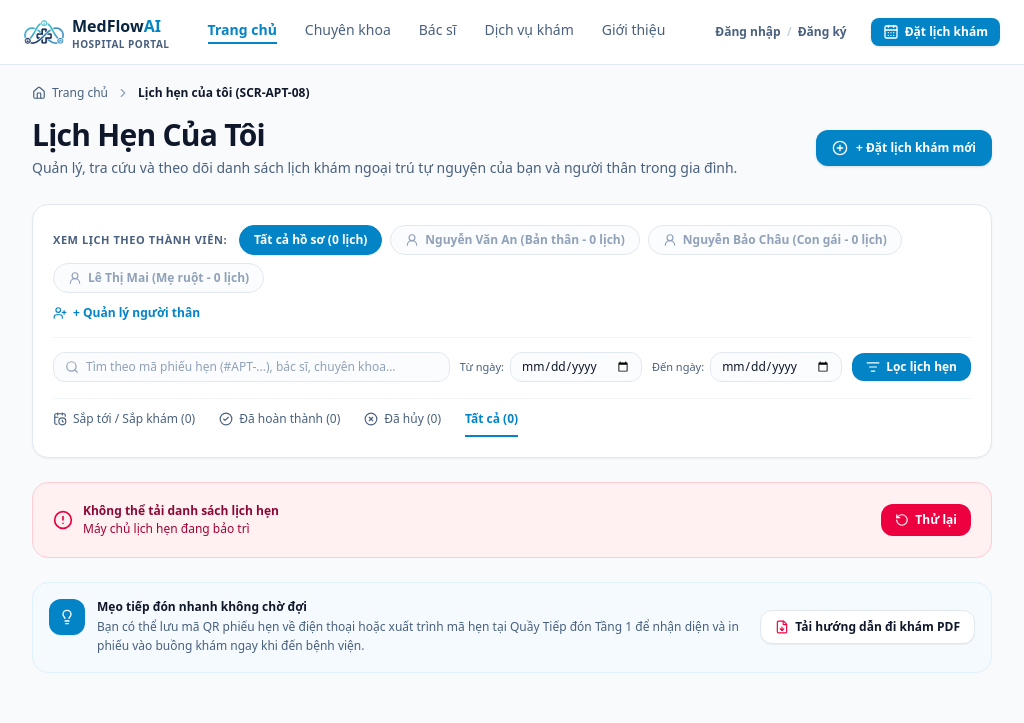
Test: AppointmentListPage (SCR-APT-08) › displays API error alert and recovers when clicking Thử lại
Check: the text "Máy chủ lịch hẹn đang bảo trì" is shown, box x1=83 y1=521 x2=279 y2=537
Click the button "Thử lại" at (926, 520), box x1=881 y1=504 x2=971 y2=536
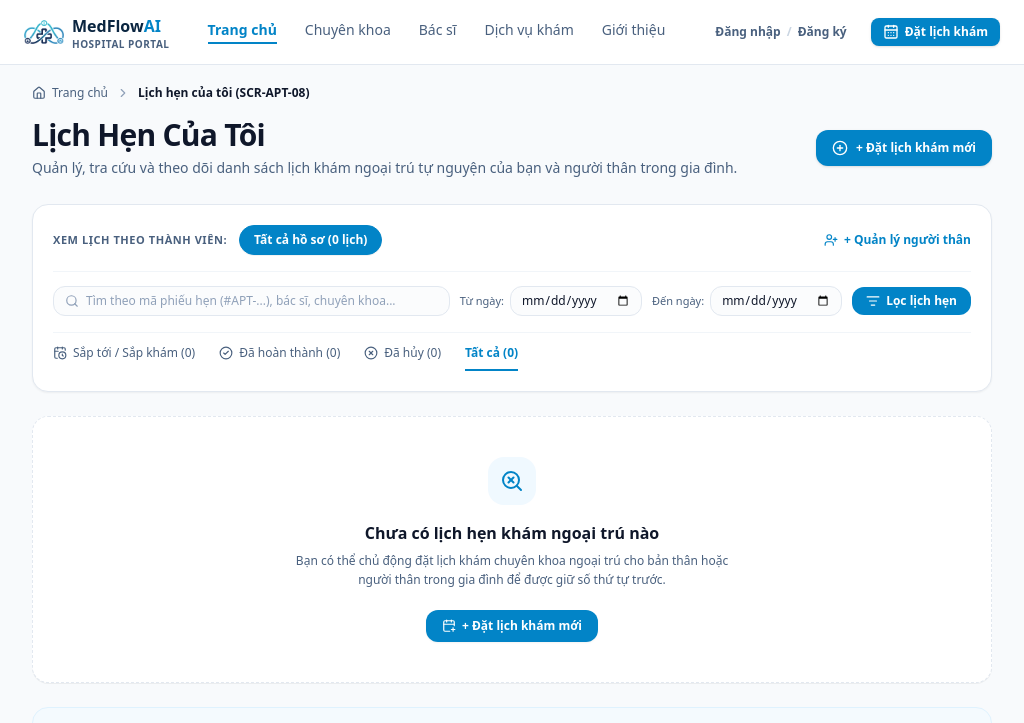
Check: the heading "Chưa có lịch hẹn khám ngoại trú nào" is shown, box x1=365 y1=522 x2=659 y2=544
